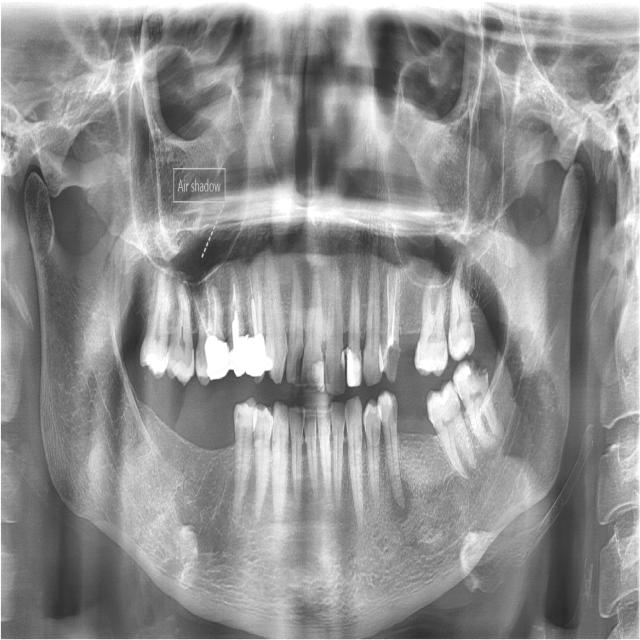Caries: (382, 340, 400, 383), (292, 342, 303, 383), (469, 360, 489, 378), (301, 365, 312, 388), (325, 361, 331, 386)
Crown: (245, 333, 272, 378), (205, 336, 229, 380), (229, 336, 249, 378)
Filling: (169, 348, 195, 382), (143, 352, 168, 376), (347, 346, 361, 386), (312, 358, 325, 390), (340, 348, 344, 372)
Missing teeth: (173, 407, 236, 451), (397, 399, 438, 436), (397, 329, 423, 379)
Periapical lesion: (386, 478, 415, 523), (480, 431, 503, 459), (457, 467, 473, 481)
Root Canal Treatment: (194, 296, 211, 338), (389, 272, 397, 344), (257, 275, 263, 334), (212, 290, 217, 335), (387, 273, 390, 348), (207, 287, 212, 331), (232, 283, 237, 307), (249, 275, 253, 295)
